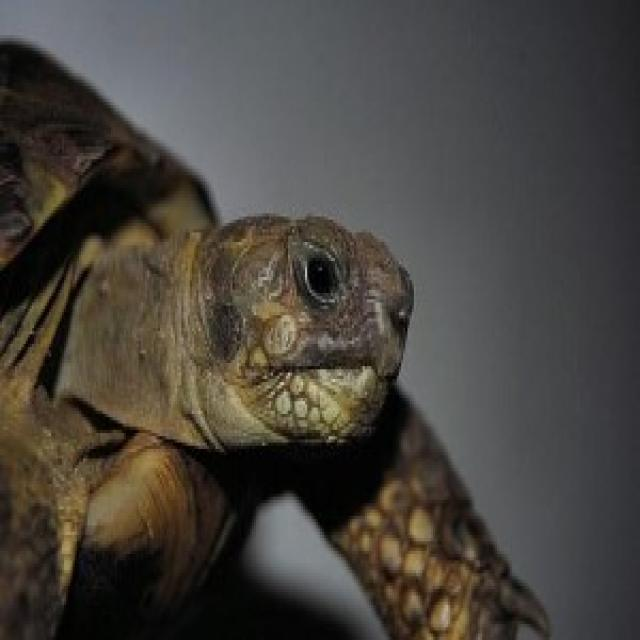Sea turtle: (0, 22, 560, 640)
